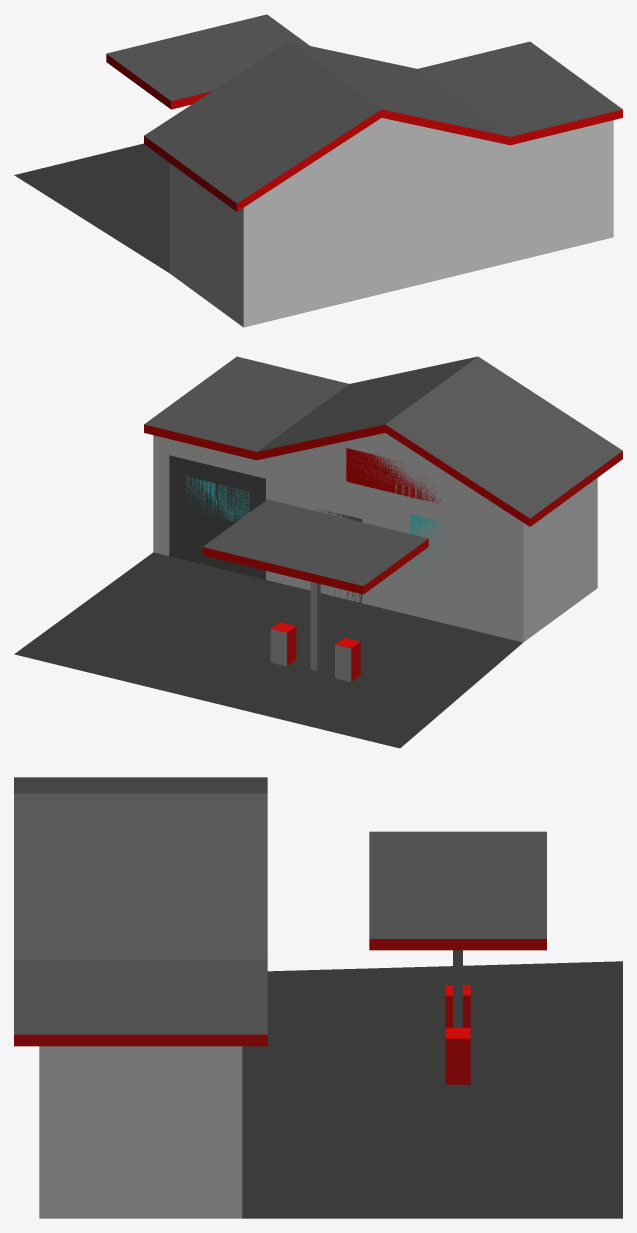
The model's file is gass.obj.
3 renders of one model, top to bottom at view 1: azimuth 30°, elevation 25°; view 2: azimuth 150°, elevation 25°; view 3: azimuth 270°, elevation 25°, orthographic. The views are drawn at different scales.
Bounding box in the file's own units: 480 × 230 × 480.
